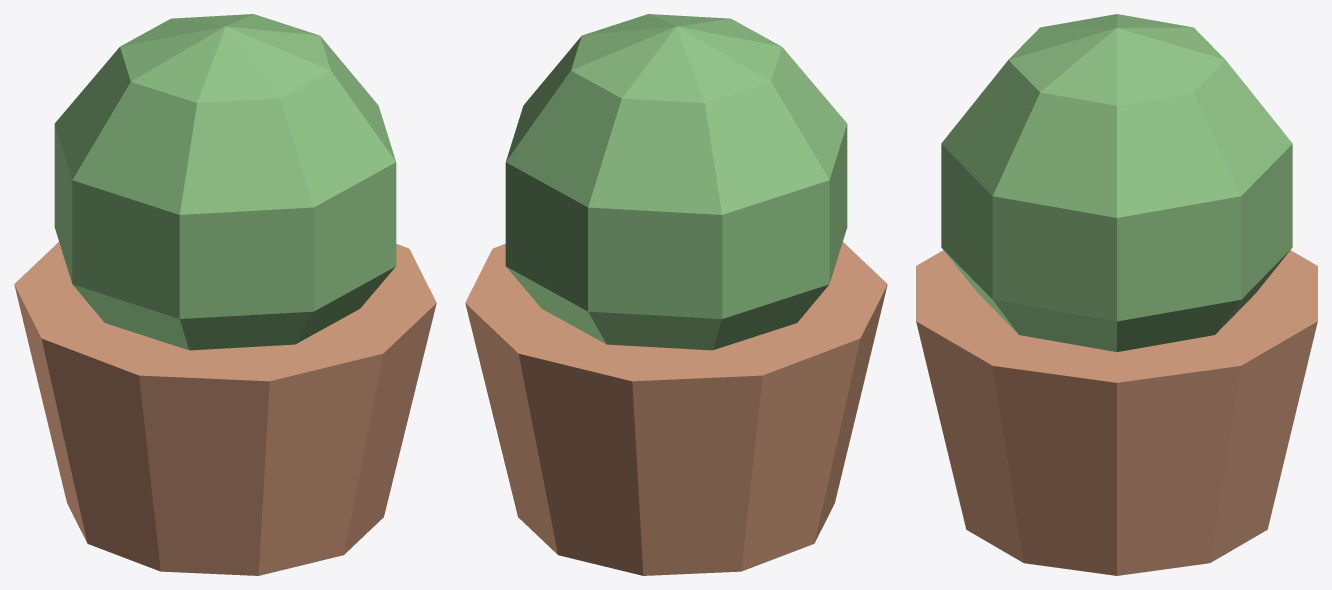
File: maceta.glb
3 renders of one model, left to right at view 1: azimuth 30°, elevation 25°; view 2: azimuth 150°, elevation 25°; view 3: azimuth 270°, elevation 25°, orthographic.
Visible parts, largest first — view 1: maceta; view 2: maceta; view 3: maceta.
Boxes of the visible parts, x1=… form: maceta: x1=14, y1=14, x2=436, y2=575; maceta: x1=465, y1=14, x2=887, y2=575; maceta: x1=916, y1=14, x2=1317, y2=575.
Size of the model in its own units: 0.8 by 1 by 0.7608.
